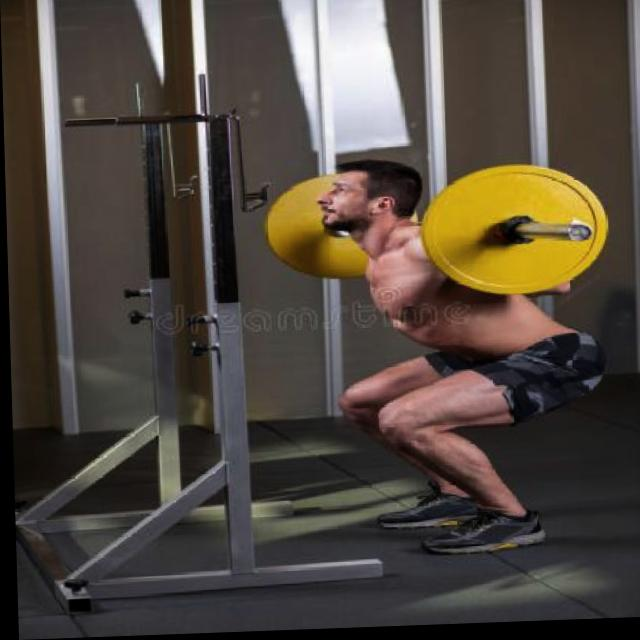barbell: (419, 164, 608, 304)
